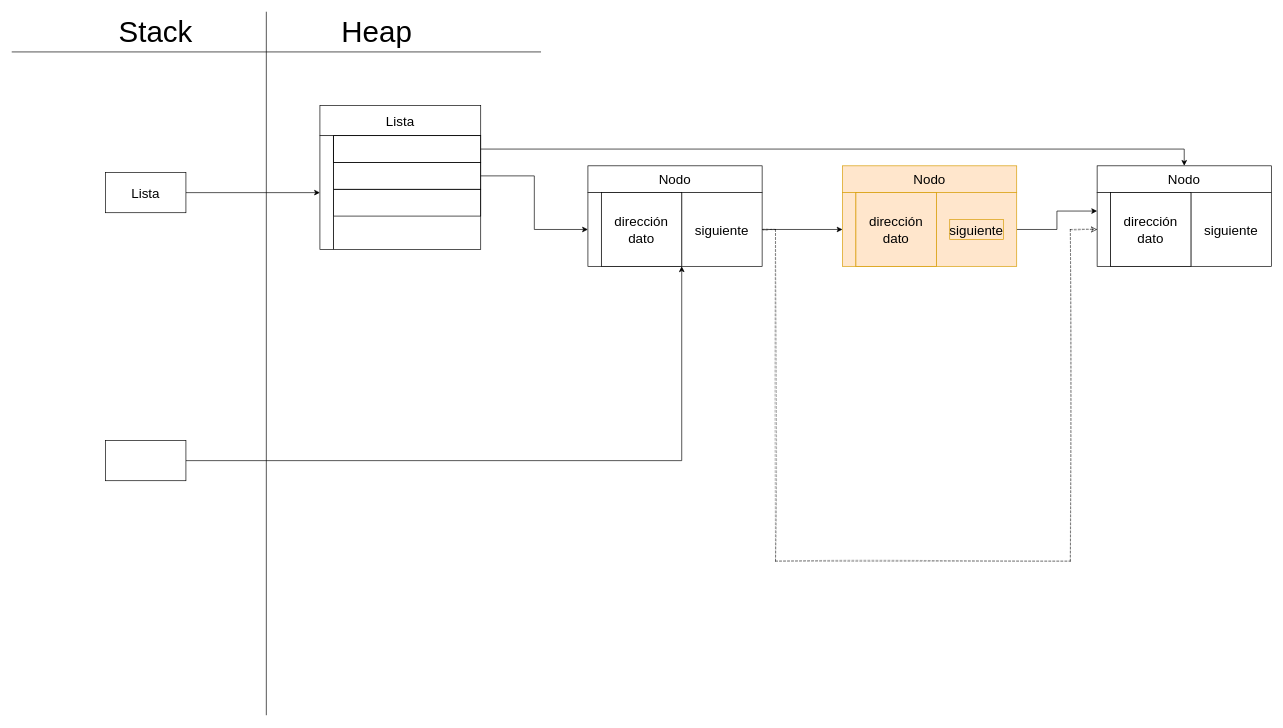
Image size: 1283x728. Some labels were removed from this diagram. Each missing label, with the centre of its shape:
cantidad: the point at 407,202
final: the point at 407,148
Nodo actual: the point at 145,460
principio: the point at 407,175
